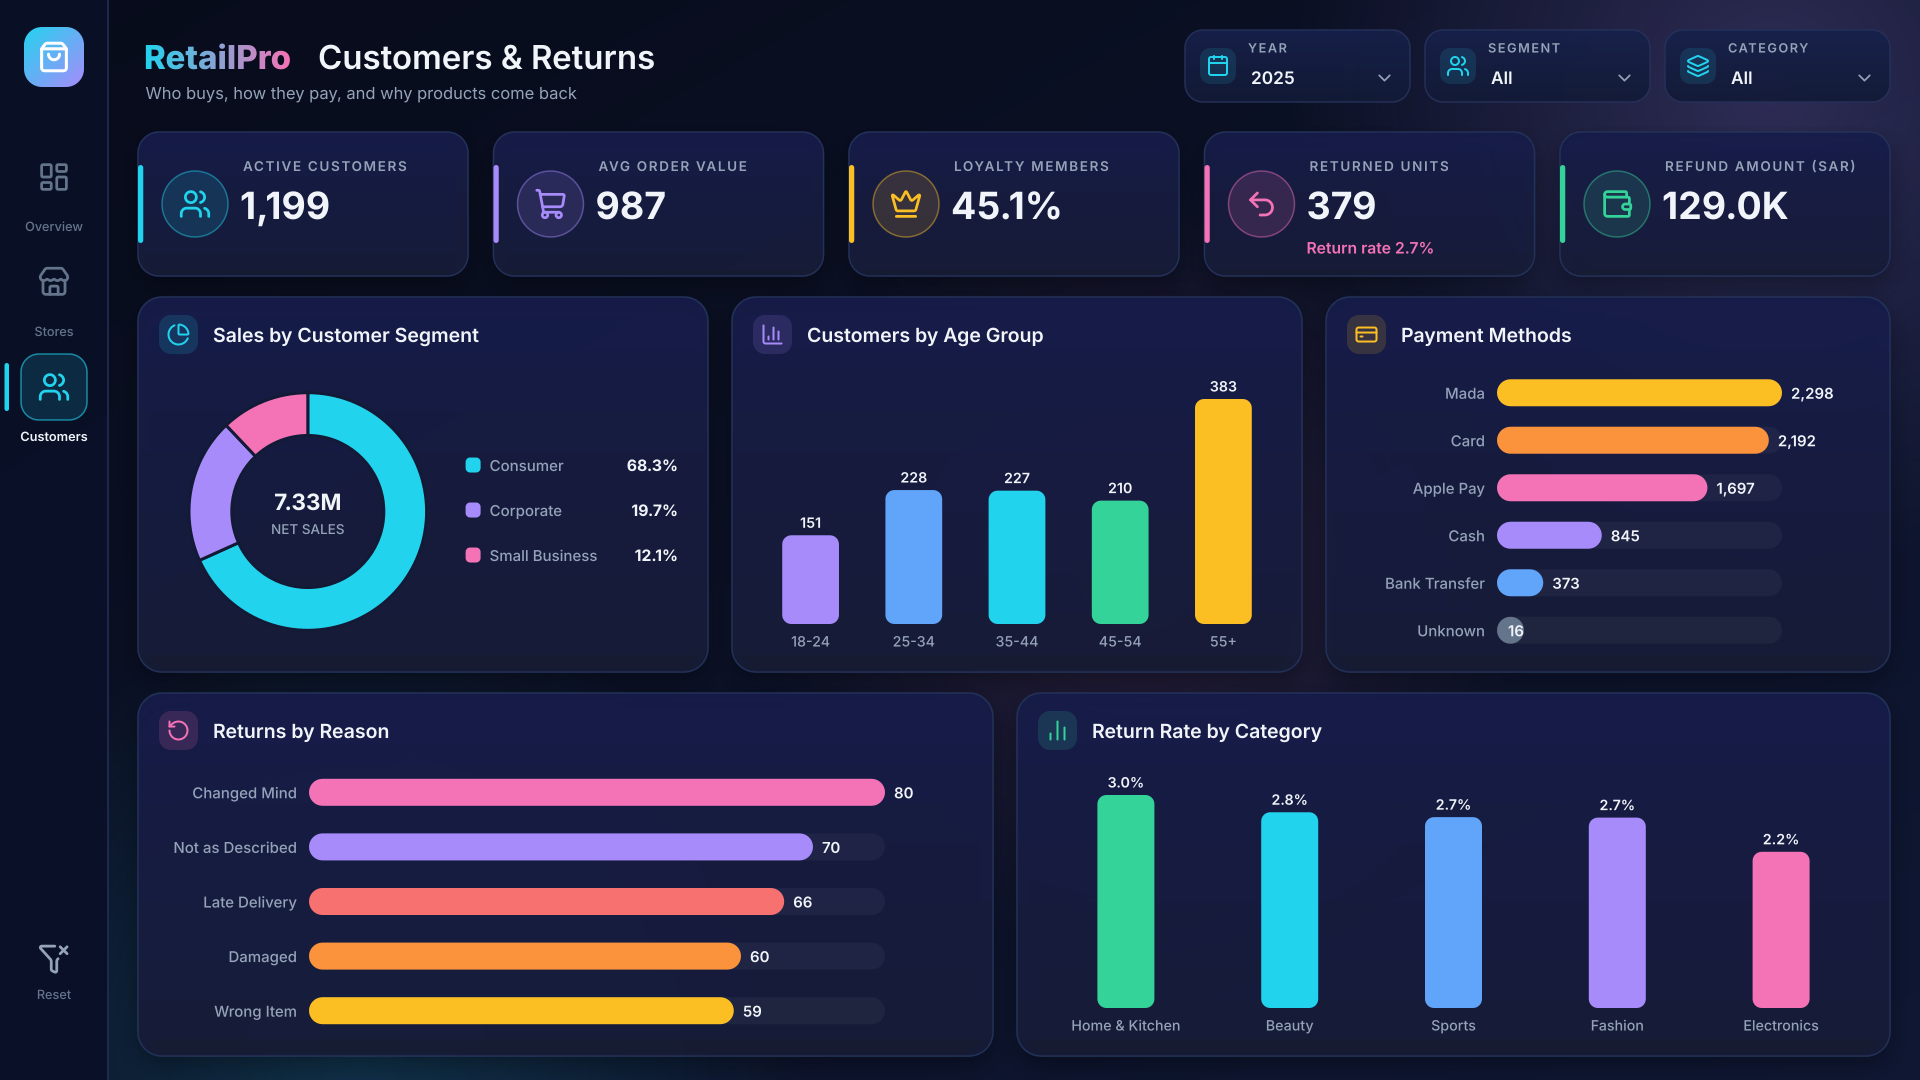

Layout of this report page (visuals, bound fields, positions):
{"tool":"powerbi","page":{"name":"Customers & Returns","canvas":[1280,720],"ordinal":2},"visuals":[{"type":"slicer","fields":{"Values":["Calendar5.Year"]},"box":[828,38,106,28],"z":1000},{"type":"slicer","fields":{"Values":["Customers1.CustomerSegment"]},"box":[988,38,106,28],"z":1001},{"type":"slicer","fields":{"Values":["Products2.Category"]},"box":[1148,38,106,28],"z":1002},{"type":"card","fields":{"Values":["_Measures.Customers"]},"box":[158,100,148,58],"z":1003},{"type":"card","fields":{"Values":["_Measures.Avg Order Value"]},"box":[395,100,148,58],"z":1004},{"type":"card","fields":{"Values":["_Measures.Loyalty Members %"]},"box":[632,100,148,58],"z":1005},{"type":"card","fields":{"Values":["_Measures.Returned Units"]},"box":[869,100,148,58],"z":1006},{"type":"card","fields":{"Values":["_Measures.Return Rate Label"]},"box":[869,144,148,40],"z":1007},{"type":"card","fields":{"Values":["_Measures.Refund Amount"]},"box":[1106,100,148,58],"z":1008},{"type":"donutChart","fields":{"Category":["Customers1.CustomerSegment"],"Y":["_Measures.Net Sales"]},"box":[100,242,364,198],"z":1009},{"type":"columnChart","fields":{"Category":["Customers1.Age Group"],"Series":["Customers1.Age Group"],"Y":["_Measures.Customers"]},"box":[496,242,364,198],"z":1010},{"type":"barChart","fields":{"Category":["SalesModel.PaymentMethod"],"Series":["SalesModel.PaymentMethod"],"Y":["_Measures.Total Orders"]},"box":[892,242,360,198],"z":1011},{"type":"barChart","fields":{"Category":["Returns4.ReturnReason"],"Series":["Returns4.ReturnReason"],"Y":["_Measures.Return Count"]},"box":[100,506,554,190],"z":1012},{"type":"columnChart","fields":{"Category":["Products2.Category"],"Series":["Products2.Category"],"Y":["_Measures.Return Rate %"]},"box":[686,506,566,190],"z":1013},{"type":"actionButton","box":[10,94,52,64],"z":5000},{"type":"actionButton","box":[10,164,52,64],"z":5001},{"type":"actionButton","box":[10,234,52,64],"z":5002},{"type":"actionButton","box":[10,620,52,56],"z":5010}]}

Visuals, with their boxes on the page's 1280x720 design canvas (x1, y1, x2, y2). These are canvas units, not pixel positions in the 1920x1080 screenshot, which may show the page scaled, cropped or inside an application window:
slicer - Calendar5.Year: crop(828, 38, 934, 66)
slicer - Customers1.CustomerSegment: crop(988, 38, 1094, 66)
slicer - Products2.Category: crop(1148, 38, 1254, 66)
card - _Measures.Customers: crop(158, 100, 306, 158)
card - _Measures.Avg Order Value: crop(395, 100, 543, 158)
card - _Measures.Loyalty Members %: crop(632, 100, 780, 158)
card - _Measures.Returned Units: crop(869, 100, 1017, 158)
card - _Measures.Return Rate Label: crop(869, 144, 1017, 184)
card - _Measures.Refund Amount: crop(1106, 100, 1254, 158)
donutChart - Customers1.CustomerSegment x _Measures.Net Sales: crop(100, 242, 464, 440)
columnChart - Customers1.Age Group x Customers1.Age Group: crop(496, 242, 860, 440)
barChart - SalesModel.PaymentMethod x SalesModel.PaymentMethod: crop(892, 242, 1252, 440)
barChart - Returns4.ReturnReason x Returns4.ReturnReason: crop(100, 506, 654, 696)
columnChart - Products2.Category x Products2.Category: crop(686, 506, 1252, 696)
actionButton: crop(10, 94, 62, 158)
actionButton: crop(10, 164, 62, 228)
actionButton: crop(10, 234, 62, 298)
actionButton: crop(10, 620, 62, 676)
